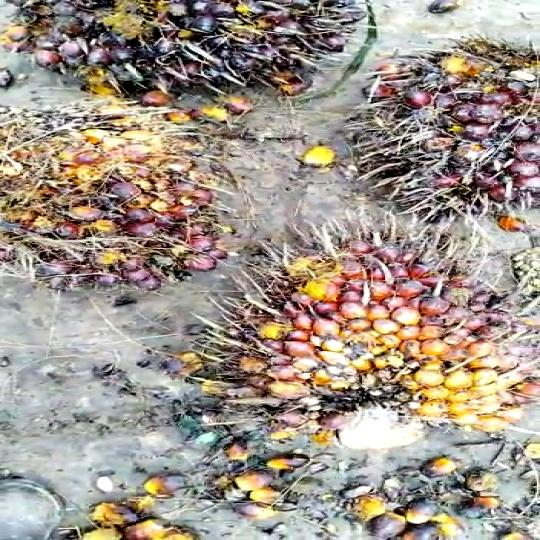masak: (186, 232, 514, 468), (0, 105, 239, 309), (10, 0, 378, 114), (347, 36, 540, 232)
